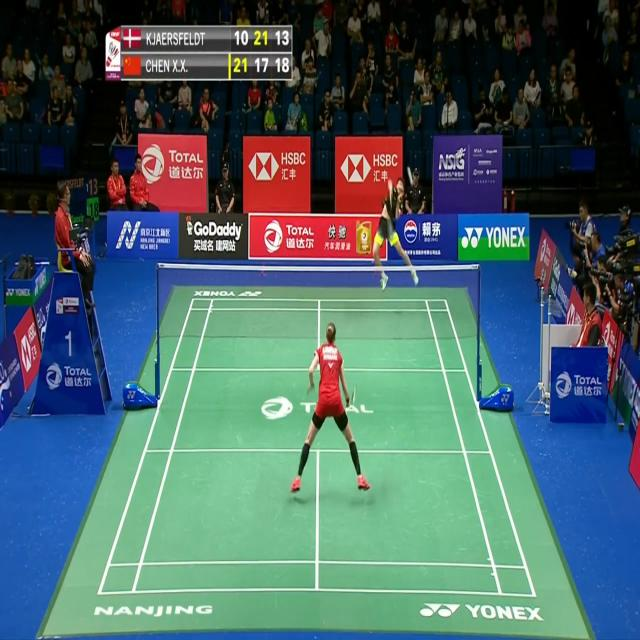Player1: (285, 321, 373, 495)
Player2: (370, 166, 425, 292)
